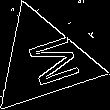M_W: (11, 31, 77, 91)
